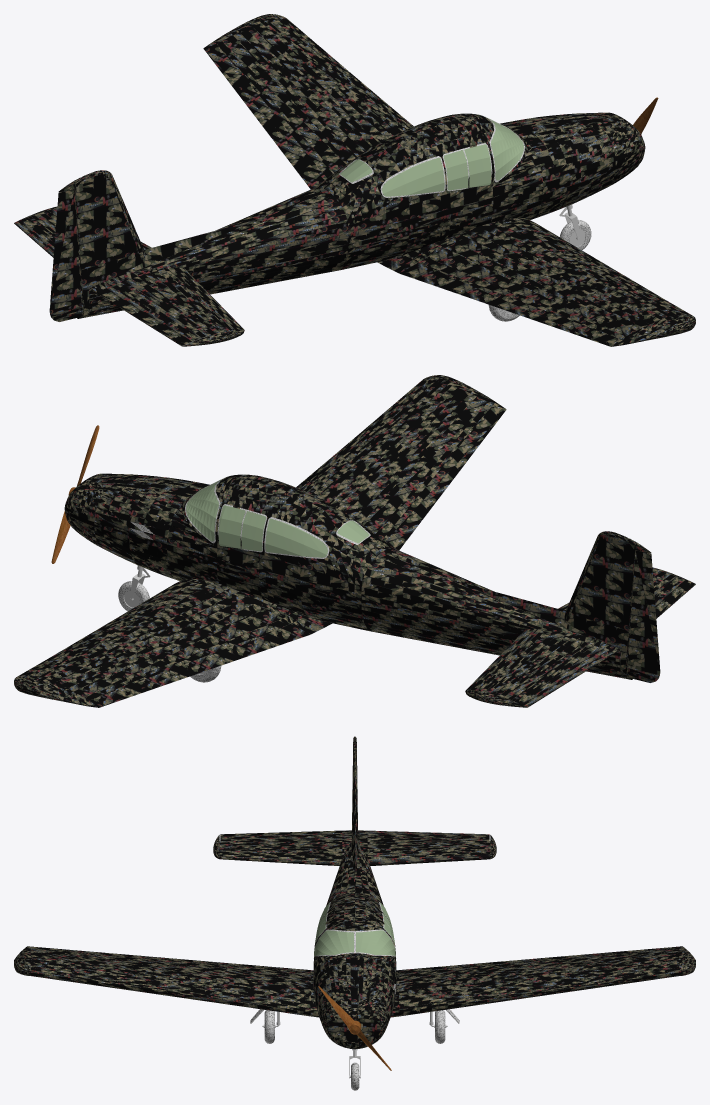
3 renders of one model, top to bottom at view 1: azimuth 30°, elevation 25°; view 2: azimuth 150°, elevation 25°; view 3: azimuth 270°, elevation 25°, orthographic. The views are drawn at different scales.
Parts seen in each view (by area): view 1: mesh8.001_mesh8-geometry, mesh9.001_mesh9-geometry, mesh10.001_mesh10-geometry, mesh6.002_mesh6-geometry, mesh5.002_mesh5-geometry, mesh3.002_mesh3-geometry, mesh2.002_mesh2-geometry; view 2: mesh8.001_mesh8-geometry, mesh9.001_mesh9-geometry, mesh10.001_mesh10-geometry, mesh1.002_mesh1-geometry, mesh4.002_mesh4-geometry, mesh3.002_mesh3-geometry, mesh7.003_mesh7-geometry, mesh2.002_mesh2-geometry; view 3: mesh9.001_mesh9-geometry, mesh8.001_mesh8-geometry, mesh10.001_mesh10-geometry, mesh3.002_mesh3-geometry, mesh7.003_mesh7-geometry.
Part boxes in pixels (x1,y1,x2,y2): mesh8.001_mesh8-geometry: (49,112,645,321); mesh9.001_mesh9-geometry: (203,14,695,346); mesh10.001_mesh10-geometry: (14,206,244,346); mesh6.002_mesh6-geometry: (443,143,492,191); mesh5.002_mesh5-geometry: (380,156,445,197); mesh3.002_mesh3-geometry: (483,116,524,182); mesh2.002_mesh2-geometry: (339,159,373,183); mesh8.001_mesh8-geometry: (64,473,660,682); mesh9.001_mesh9-geometry: (14,375,506,707); mesh10.001_mesh10-geometry: (465,567,695,707); mesh1.002_mesh1-geometry: (217,504,266,552); mesh4.002_mesh4-geometry: (264,517,329,558); mesh3.002_mesh3-geometry: (185,477,226,543); mesh7.003_mesh7-geometry: (51,425,99,563); mesh2.002_mesh2-geometry: (336,520,370,544); mesh9.001_mesh9-geometry: (14,946,695,1021); mesh8.001_mesh8-geometry: (313,736,396,1090); mesh10.001_mesh10-geometry: (213,830,496,865); mesh3.002_mesh3-geometry: (314,929,395,956); mesh7.003_mesh7-geometry: (318,986,391,1070).
Size of the model in its own units: 0.6137 by 0.1972 by 0.7645.
